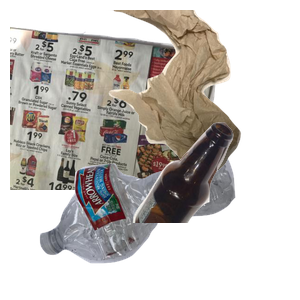glass: (130, 120, 300, 300)
paper: (10, 22, 225, 202)
plastic: (37, 144, 265, 300)
trash: (103, 10, 300, 173)
